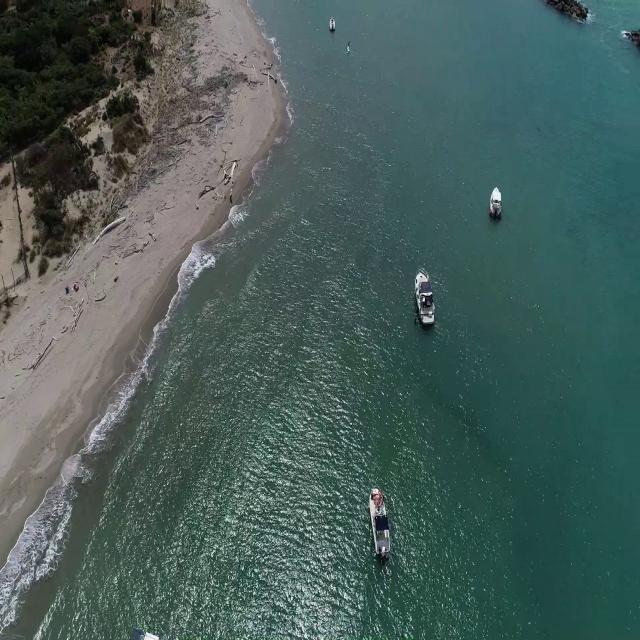boat: (365, 483, 388, 563), (408, 266, 430, 330), (483, 184, 498, 220), (321, 16, 330, 33)
person: (341, 38, 346, 50)
surfboard: (339, 46, 346, 58)
wood: (190, 162, 232, 207)
